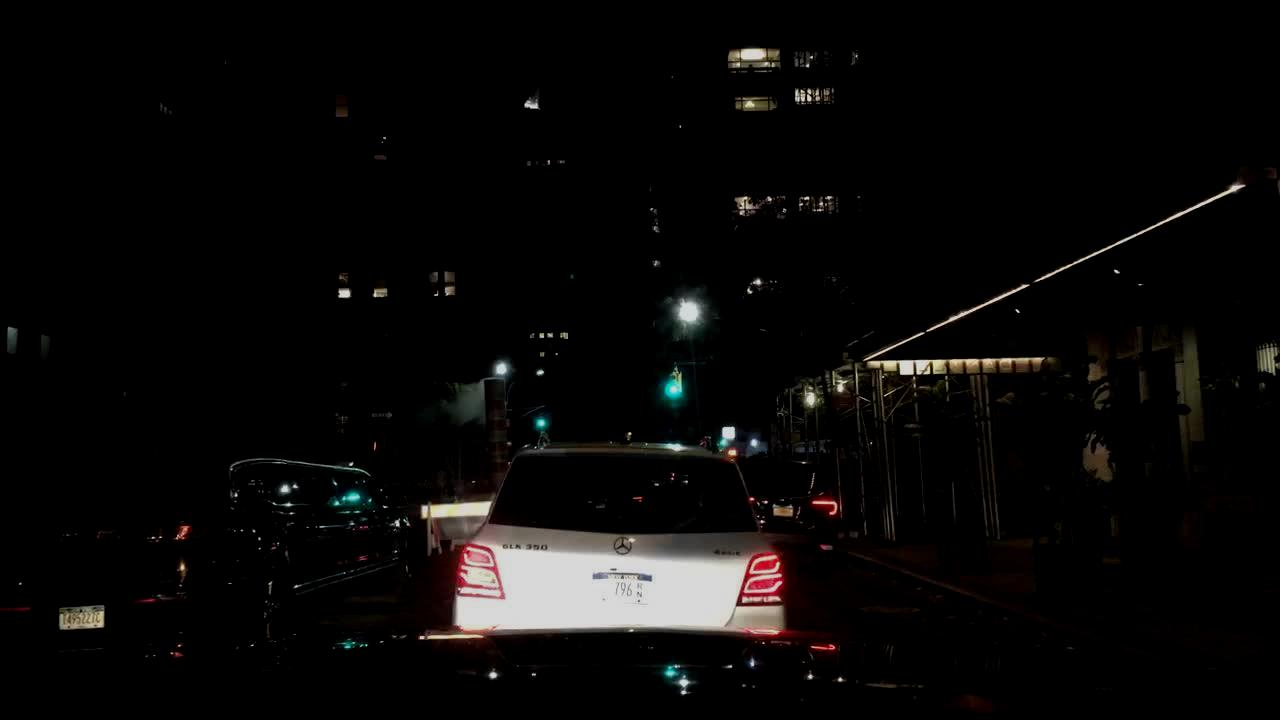Mercedes: (605, 531, 641, 562)
